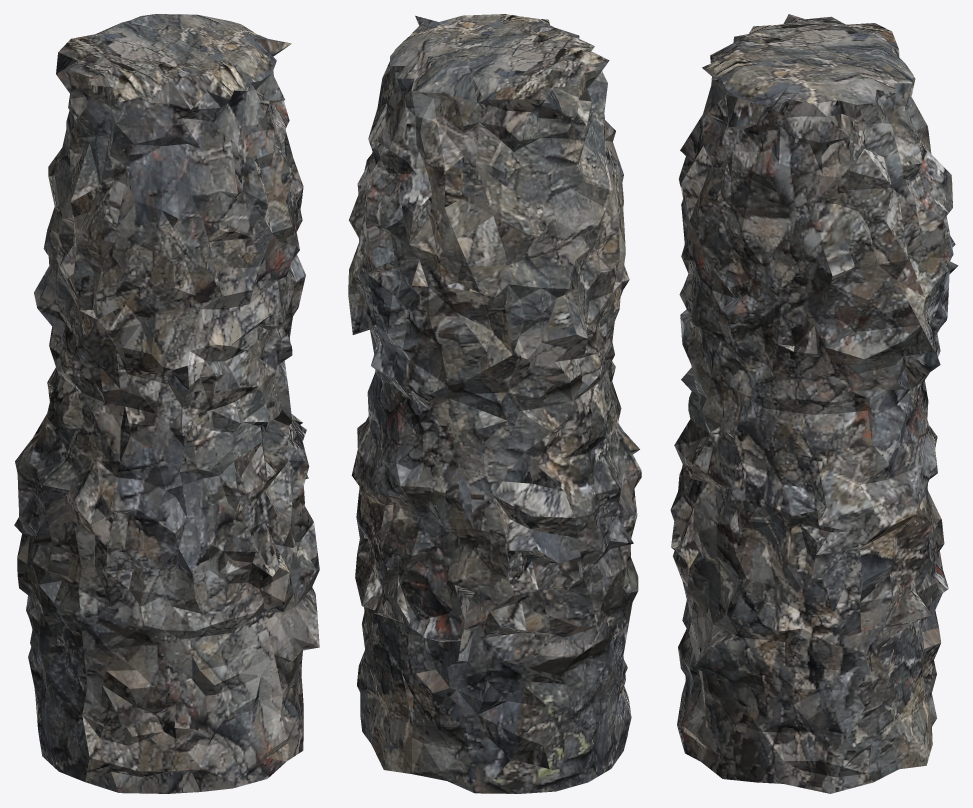
File: Hesham Mountain.fbx
3 views of the same model, side by side, from view 1: azimuth 30°, elevation 25°; view 2: azimuth 150°, elevation 25°; view 3: azimuth 270°, elevation 25° (orthographic).
Visible parts, largest first — view 1: Cylinder; view 2: Cylinder; view 3: Cylinder.
Boxes of the visible parts, box(x1,y1,x2,y2) form: Cylinder: box(14, 14, 319, 793); Cylinder: box(348, 14, 641, 793); Cylinder: box(670, 14, 958, 793).
Size of the model in its own units: 238 by 576 by 218.
1 material, 1 textured.
